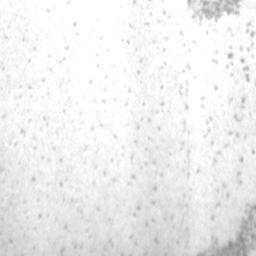Pitted surface: (196, 204, 256, 256), (187, 0, 241, 22), (246, 22, 256, 38), (242, 66, 250, 82), (236, 171, 243, 185), (228, 131, 240, 138), (233, 113, 242, 122), (240, 96, 246, 109), (227, 52, 234, 59)
